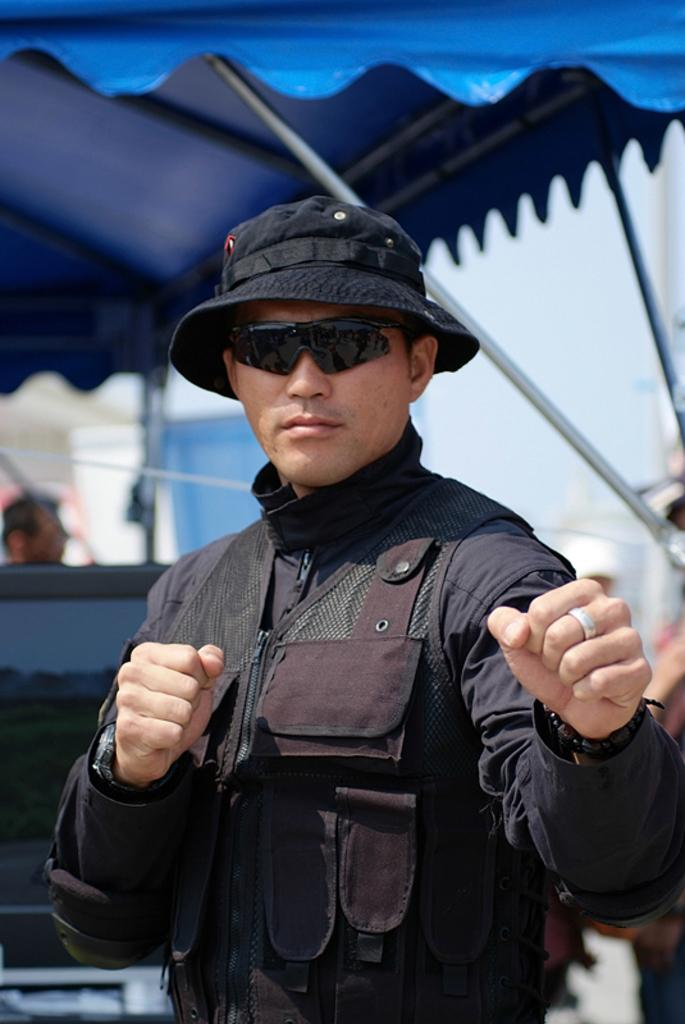Hat: (166, 196, 480, 400)
